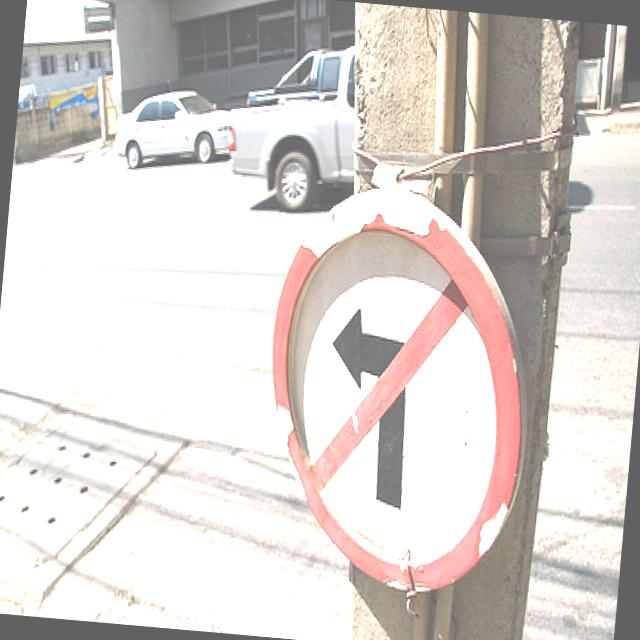Vehicle: (220, 27, 368, 212), (110, 85, 234, 177)
